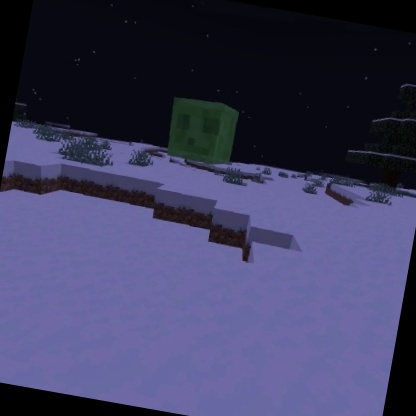slime: (164, 93, 244, 168)
